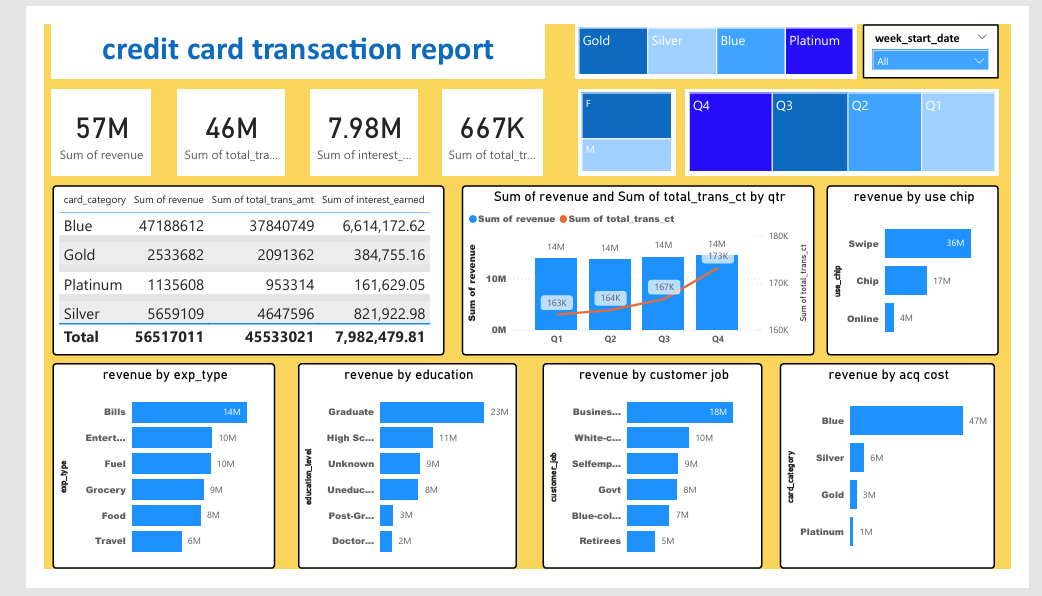

What the dashboard file says about the page in this screenshot:
{"tool":"powerbi","page":{"name":"credit card transaction report","canvas":[1280,720],"ordinal":0},"visuals":[{"type":"textbox","box":[9.9,0,653.4,72.3],"z":0},{"type":"lineStackedColumnComboChart","fields":{"Category":["public cc_detail.qtr"],"Y2":["Sum(public cc_detail.total_trans_ct)"],"Y":["Sum(public cc_detail.revenue)"]},"box":[552.8,212.6,467.7,225.4],"z":1000},{"type":"barChart","title":" revenue by exp_type","fields":{"Y":["Sum(public cc_detail.revenue)"],"Category":["public cc_detail.exp_type"]},"box":[11.3,447.9,295,272.1],"z":2000},{"type":"barChart","title":" revenue by education","fields":{"Y":["Sum(public cc_detail.revenue)"],"Category":["public cust_detail.education_level"]},"box":[335.9,447.9,290,272.1],"z":3000},{"type":"barChart","title":" revenue by customer job","fields":{"Y":["Sum(public cc_detail.revenue)"],"Category":["public cust_detail.customer_job"]},"box":[660.5,447.9,290.6,272.1],"z":4000},{"type":"barChart","title":" revenue by acq cost","fields":{"Y":["Sum(public cc_detail.revenue)"],"Category":["public cc_detail.card_category"]},"box":[973.7,447.9,285,272.1],"z":5000},{"type":"barChart","title":" revenue by use chip","fields":{"Y":["Sum(public cc_detail.revenue)"],"Category":["public cc_detail.use_chip"]},"box":[1036.1,212.6,228.2,225.4],"z":6000},{"type":"tableEx","fields":{"Values":["public cc_detail.card_category","Sum(public cc_detail.revenue)","Sum(public cc_detail.total_trans_amt)","Sum(public cc_detail.interest_earned)"]},"box":[11.3,212.6,518.7,225.4],"z":7000},{"type":"card","fields":{"Values":["Sum(public cc_detail.revenue)"]},"box":[9.9,86.5,131.8,113.4],"z":8000},{"type":"card","fields":{"Values":["Sum(public cc_detail.total_trans_amt)"]},"box":[177.2,86.5,141.7,113.4],"z":9000},{"type":"card","fields":{"Values":["Sum(public cc_detail.interest_earned)"]},"box":[352.9,86.5,141.7,113.4],"z":10000},{"type":"card","fields":{"Values":["Sum(public cc_detail.total_trans_ct)"]},"box":[527.2,86.5,133.2,113.4],"z":11000},{"type":"slicer","fields":{"Values":["public cc_detail.week_start_date"]},"box":[1084.3,0,180,72.3],"z":12000},{"type":"treemap","fields":{"Group":["public cc_detail.qtr"],"Values":["Avg(public cc_detail.client_num)"]},"box":[849,86.5,415.3,113.4],"z":13000},{"type":"treemap","fields":{"Group":["public cust_detail.gender"],"Values":["CountNonNull(public cc_detail.client_num)"]},"box":[707.2,86.5,129,113.4],"z":14000},{"type":"treemap","fields":{"Group":["public cc_detail.card_category"],"Values":["Avg(public cc_detail.client_num)"]},"box":[703,0,372.8,72.3],"z":15000}]}

Visuals, with their boxes in screenshot pixels (x1, y1, x2, y2), scaled from the page's 1280x720 canvas onto the 1042x596 screenshot:
textbox: left=8, top=0, right=540, bottom=60
lineStackedColumnComboChart - public cc_detail.qtr x Sum(public cc_detail.total_trans_ct): left=450, top=176, right=831, bottom=363
" revenue by exp_type" barChart: left=9, top=371, right=249, bottom=595
" revenue by education" barChart: left=273, top=371, right=510, bottom=595
" revenue by customer job" barChart: left=538, top=371, right=774, bottom=595
" revenue by acq cost" barChart: left=793, top=371, right=1025, bottom=595
" revenue by use chip" barChart: left=843, top=176, right=1029, bottom=363
tableEx - public cc_detail.card_category x Sum(public cc_detail.revenue): left=9, top=176, right=431, bottom=363
card - Sum(public cc_detail.revenue): left=8, top=72, right=115, bottom=165
card - Sum(public cc_detail.total_trans_amt): left=144, top=72, right=260, bottom=165
card - Sum(public cc_detail.interest_earned): left=287, top=72, right=403, bottom=165
card - Sum(public cc_detail.total_trans_ct): left=429, top=72, right=538, bottom=165
slicer - public cc_detail.week_start_date: left=883, top=0, right=1029, bottom=60
treemap - public cc_detail.qtr x Avg(public cc_detail.client_num): left=691, top=72, right=1029, bottom=165
treemap - public cust_detail.gender x CountNonNull(public cc_detail.client_num): left=576, top=72, right=681, bottom=165
treemap - public cc_detail.card_category x Avg(public cc_detail.client_num): left=572, top=0, right=876, bottom=60
